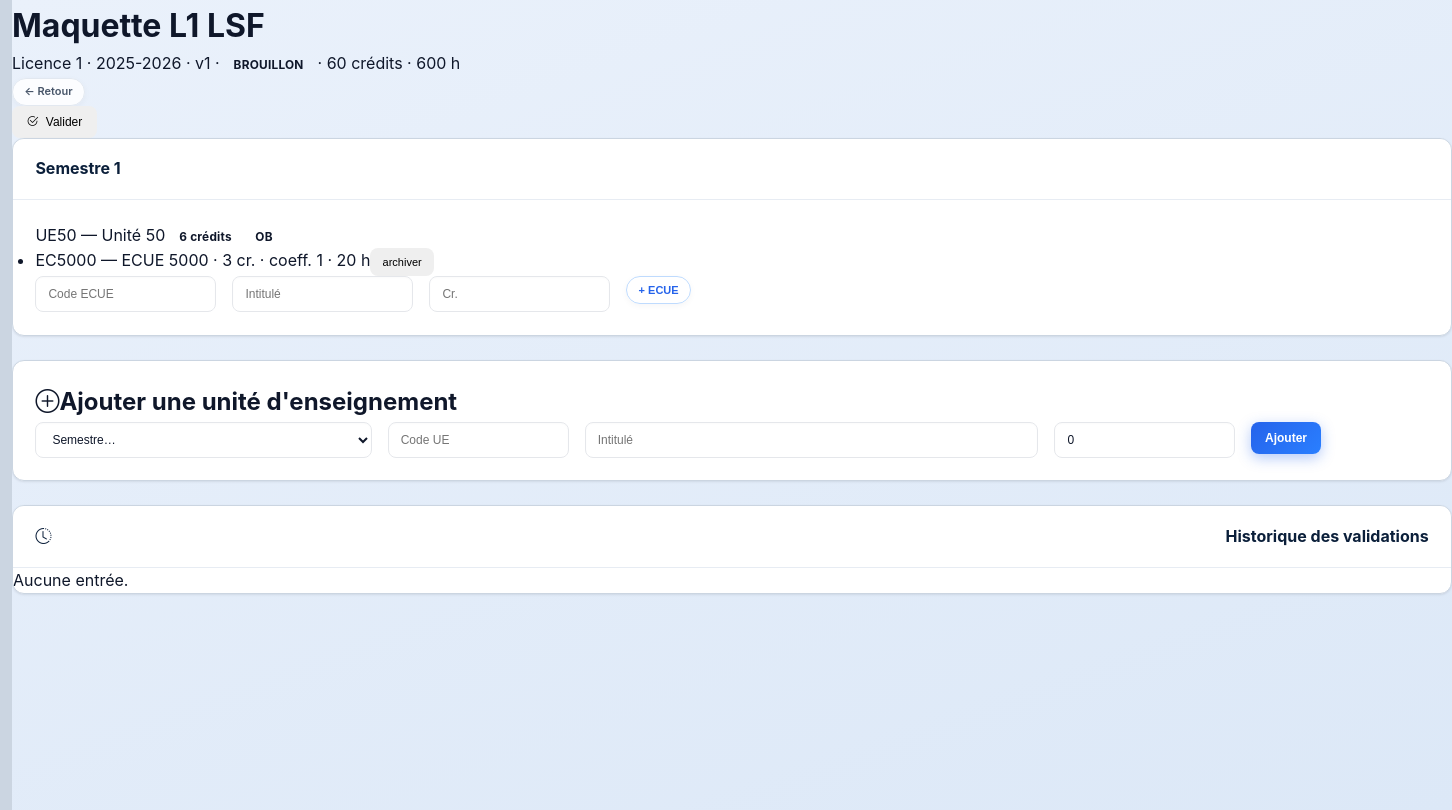
Test: pages/scolarite/MaquetteDetail.jsx — workflow de validation (LOT 32) › notifie les problèmes de cohérence, puis le détail, puis le message générique
Click the button "Valider" at (54, 122), box [12,106,97,138]
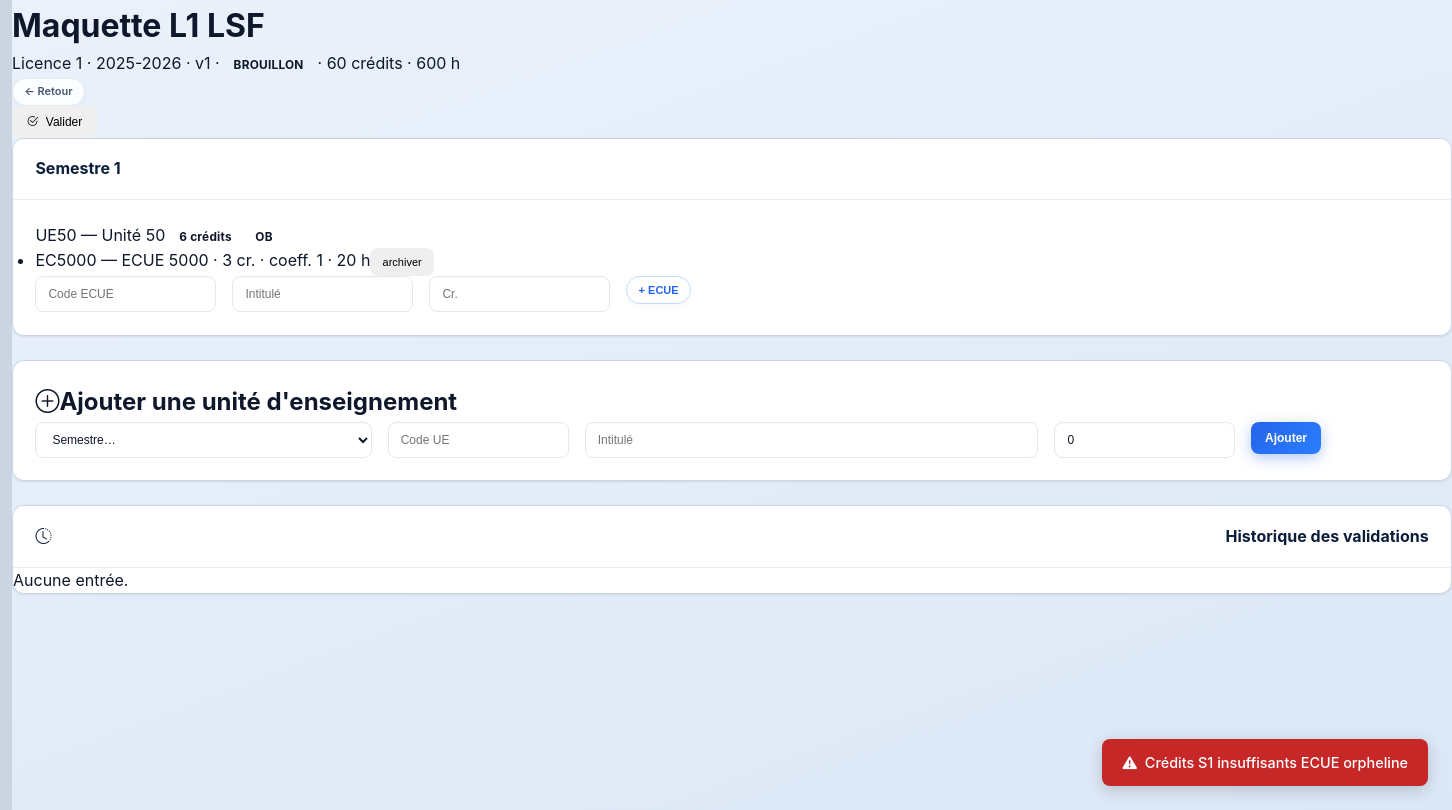
Check: the text "Crédits S1 insuffisants ECUE orpheline" is shown, box [1102,739,1428,786]
Click the button "Valider" at (54, 122), box [12,106,97,138]
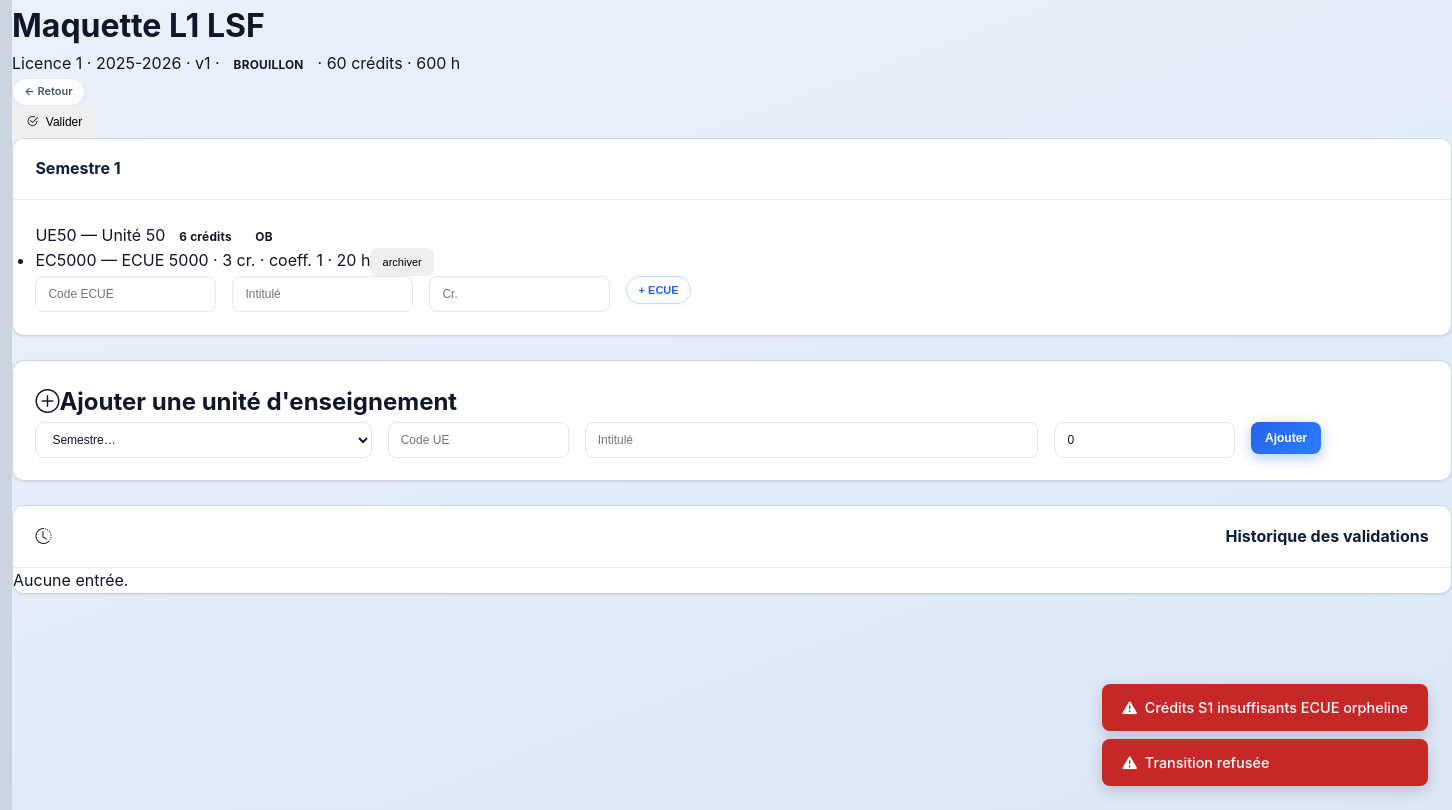
Check: the text "Transition refusée" is shown, box [1102,739,1428,786]
Click the button "Valider" at (54, 122), box [12,106,97,138]
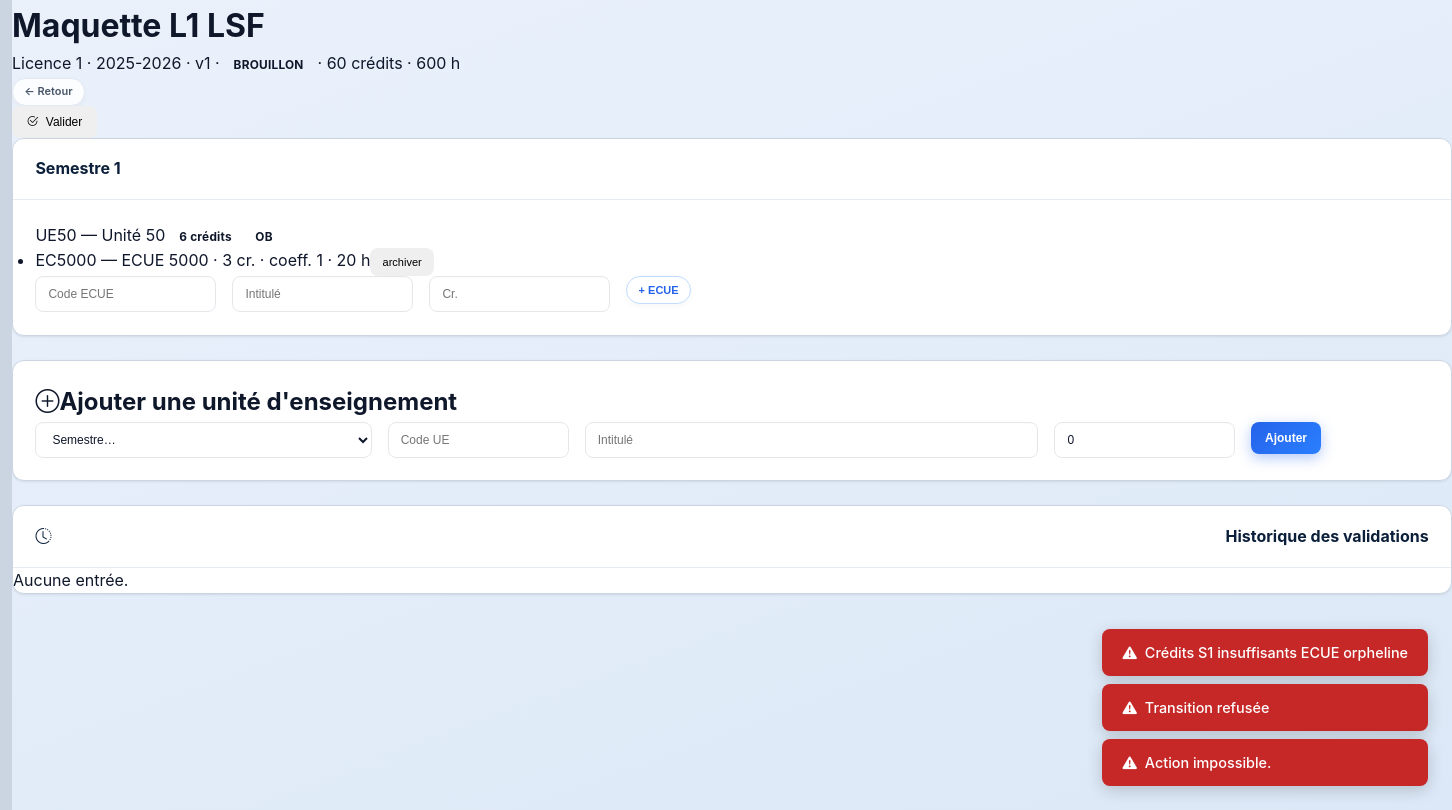
Check: the text "Action impossible." is shown, box [1102,739,1428,786]
